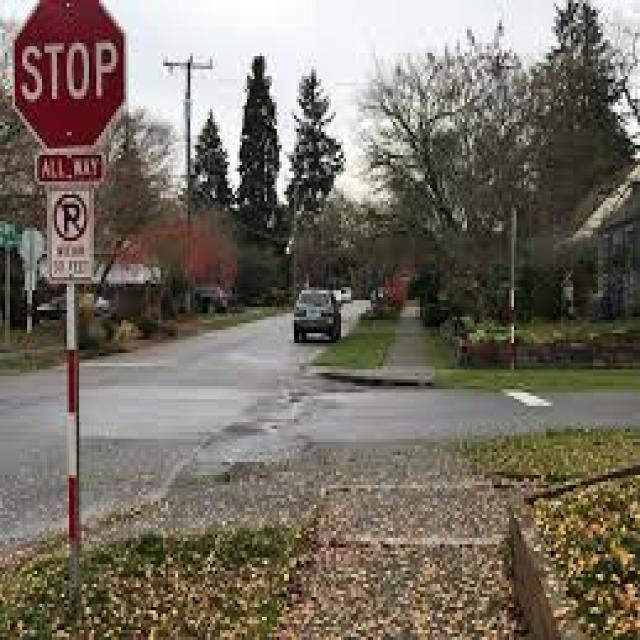stop-sign: (17, 9, 139, 148)
